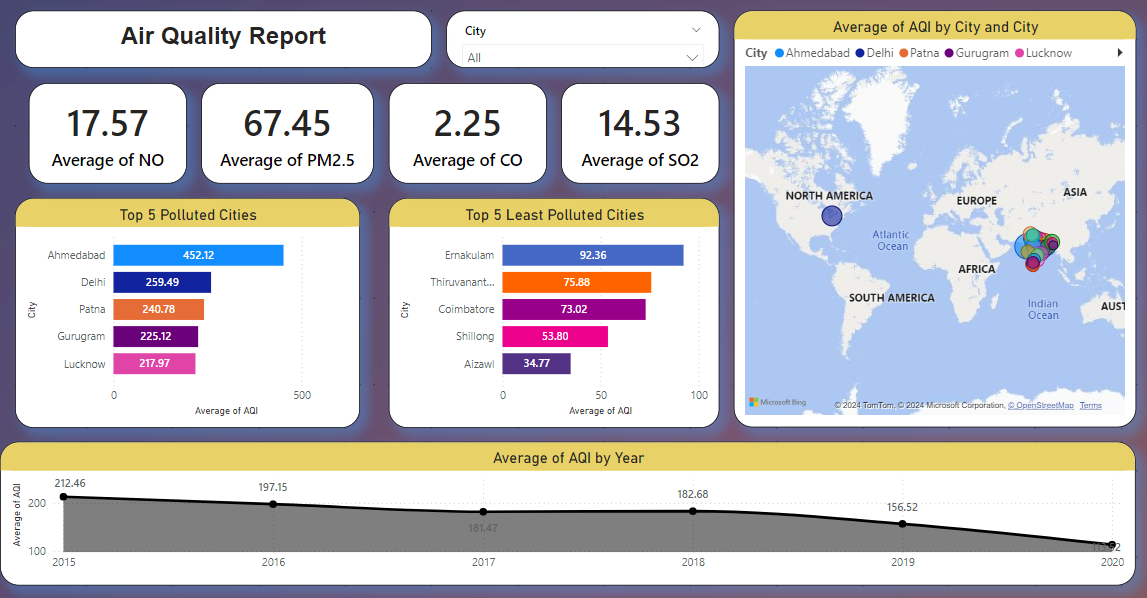

Layout of this report page (visuals, bound fields, positions):
{"tool":"powerbi","page":{"name":"Page 1","canvas":[1280,720],"ordinal":0},"visuals":[{"type":"lineChart","fields":{"Category":["city_day.Date.Variation.Date Hierarchy.Year","city_day.Date.Variation.Date Hierarchy.Quarter","city_day.Date.Variation.Date Hierarchy.Month","city_day.Date.Variation.Date Hierarchy.Day"],"Y":["Avg(city_day.AQI)"]},"box":[0,544,1264,160],"z":0},{"type":"slicer","fields":{"Values":["city_day.City"]},"box":[496,64,304,64],"z":1000},{"type":"barChart","title":"Top 5 Polluted Cities","fields":{"Category":["city_day.City"],"Y":["Avg(city_day.AQI)"],"Series":["city_day.City"]},"box":[16,272,384,256],"z":2000},{"type":"barChart","title":"Top 5 Least Polluted Cities","fields":{"Category":["city_day.City"],"Y":["Avg(city_day.AQI)"],"Series":["city_day.City"]},"box":[432,272,368,256],"z":3000},{"type":"card","fields":{"Values":["Avg(city_day.CO)"]},"box":[432,144,176,112],"z":4000},{"type":"card","fields":{"Values":["Avg(city_day.NO)"]},"box":[32,144,176,112],"z":5000},{"type":"card","fields":{"Values":["Avg(city_day.SO2)"]},"box":[624,144,176,112],"z":6000},{"type":"card","fields":{"Values":["Avg(city_day.PM2.5)"]},"box":[224,144,192,112],"z":7000},{"type":"map","fields":{"Category":["city_day.City"],"Size":["Avg(city_day.AQI)"],"Series":["city_day.City"]},"box":[816,64,448,464],"z":8000},{"type":"textbox","box":[16,64,464,64],"z":9000}]}

Visuals, with their boxes in screenshot pixels (x1, y1, x2, y2):
lineChart - city_day.Date.Variation.Date Hierarchy.Year x city_day.Date.Variation.Date Hierarchy.Quarter: crop(12, 440, 1124, 580)
slicer - city_day.City: crop(448, 17, 716, 74)
"Top 5 Polluted Cities" barChart: crop(26, 200, 364, 426)
"Top 5 Least Polluted Cities" barChart: crop(392, 200, 716, 426)
card - Avg(city_day.CO): crop(392, 88, 547, 186)
card - Avg(city_day.NO): crop(40, 88, 195, 186)
card - Avg(city_day.SO2): crop(561, 88, 716, 186)
card - Avg(city_day.PM2.5): crop(209, 88, 378, 186)
map - city_day.City x Avg(city_day.AQI): crop(730, 17, 1124, 426)
textbox: crop(26, 17, 434, 74)
